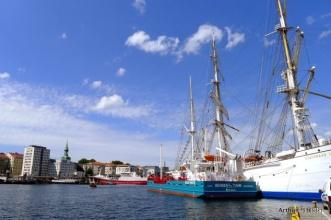fanchuan: (143, 44, 262, 196), (262, 1, 331, 199)
